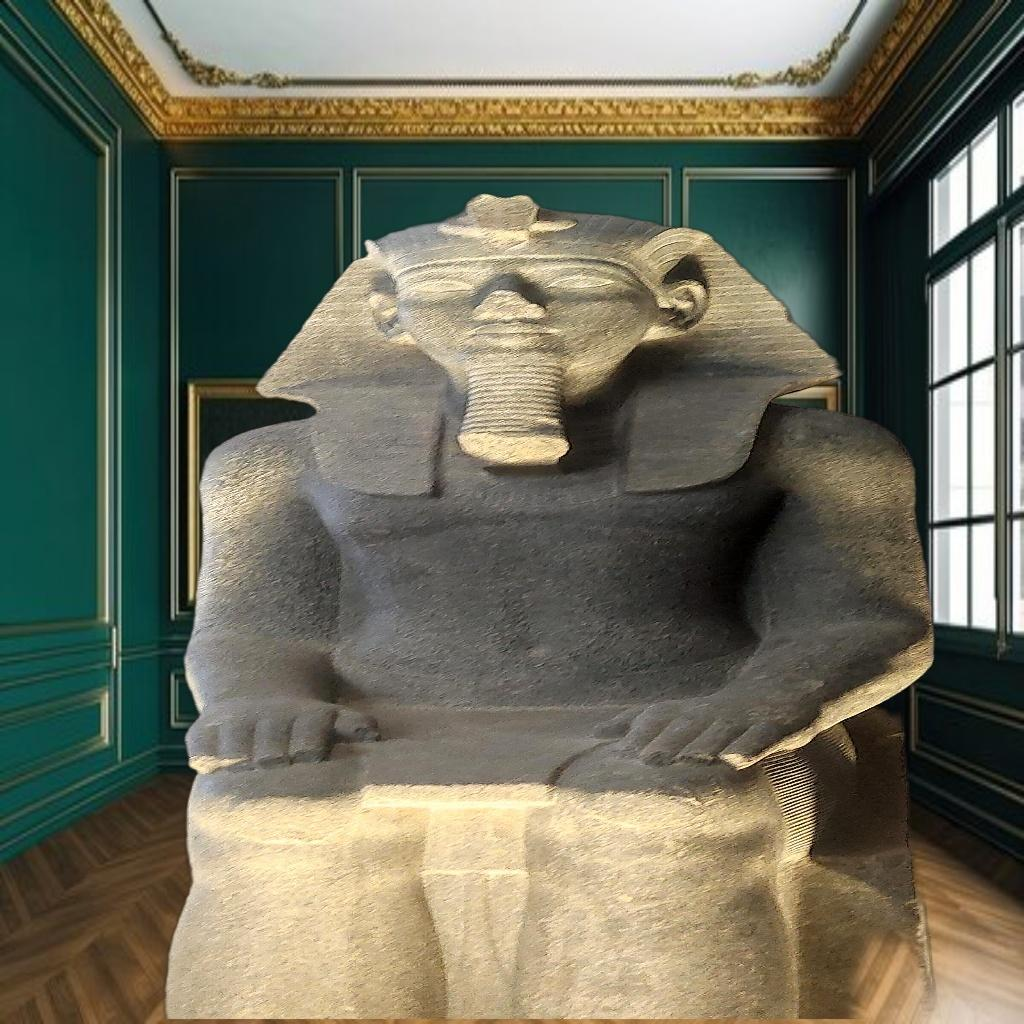Seated Statue of Amenhotep III: (142, 184, 942, 1020)
